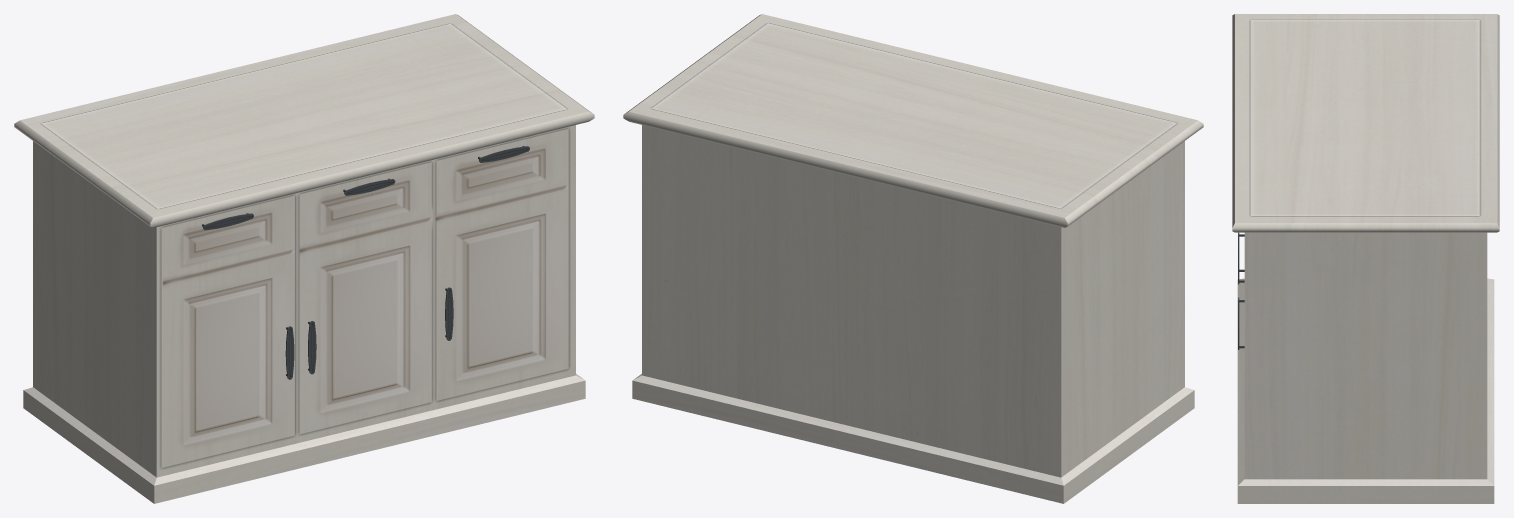
Rendered from cabinet cum table.FBX.
3 views of the same model, side by side, from view 1: azimuth 30°, elevation 25°; view 2: azimuth 150°, elevation 25°; view 3: azimuth 270°, elevation 25° (orthographic).
Visible parts, largest first — view 1: cabinet cum table; view 2: cabinet cum table; view 3: cabinet cum table.
Part boxes in pixels (x1,y1,x2,y2): cabinet cum table: (14,14,594,503); cabinet cum table: (623,14,1203,503); cabinet cum table: (1232,14,1499,503).
Size of the model in its own units: 56.63 by 30.02 by 35.01.
